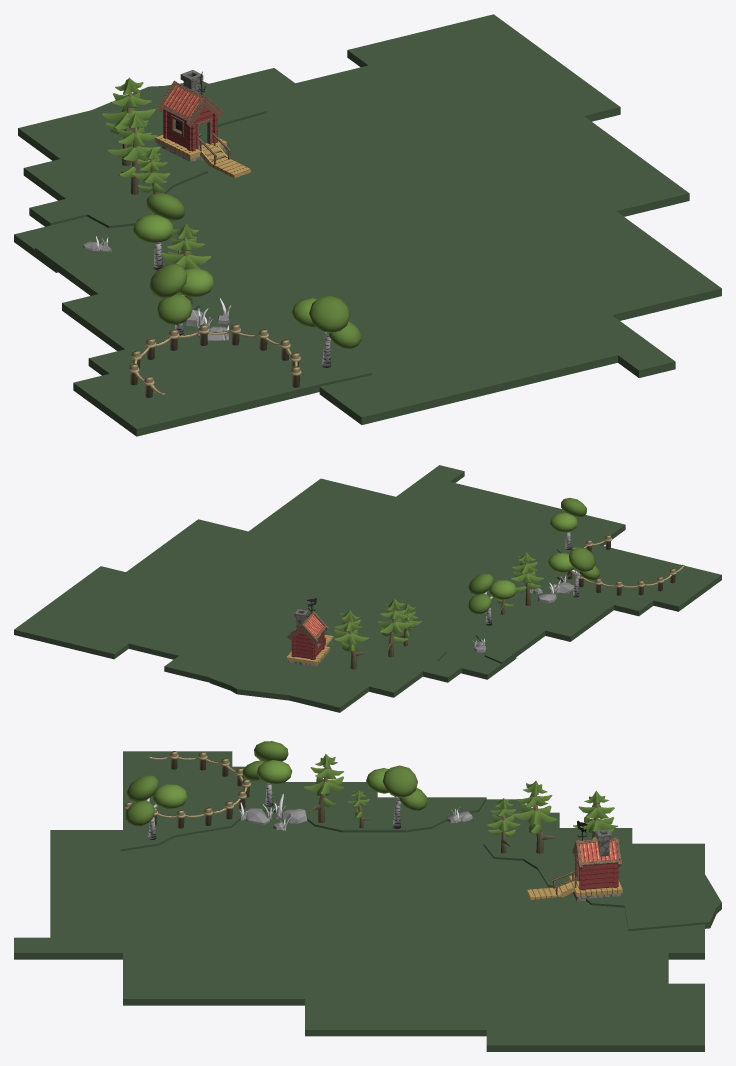
3 renders of one model, top to bottom at view 1: azimuth 30°, elevation 25°; view 2: azimuth 150°, elevation 25°; view 3: azimuth 270°, elevation 25°, orthographic. The views are drawn at different scales.
Parts seen in each view (by area): view 1: Cube.055, Maa1, Maa2, Cottage.001, Koivu2, Koivu1, Aitaus, Koivu3, Mänty4, Mänty5, Mänty1, Mänty3 (+1 smaller); view 2: Cube.055, Maa1, Maa2, Cottage.001, Koivu3, Koivu2, Aitaus, Koivu1, Mänty4, Mänty5, Mänty1, TaustaAssetteja1; view 3: Cube.055, Maa1, Maa2, Cottage.001, Koivu1, Koivu3, Aitaus, Koivu2, Mänty4, Mänty1, TaustaAssetteja1, Mänty5 (+1 smaller).
Part boxes in pixels (box(x1,y1,x2,y2)): Cube.055: box(14, 14, 721, 424); Maa1: box(35, 243, 371, 436); Maa2: box(18, 81, 266, 228); Cottage.001: box(155, 70, 250, 178); Koivu2: box(150, 263, 214, 334); Koivu1: box(291, 295, 361, 367); Aitaus: box(128, 324, 301, 397); Koivu3: box(133, 192, 184, 270); Mänty4: box(108, 113, 160, 194); Mänty5: box(102, 77, 155, 165); Mänty1: box(161, 223, 210, 304); Mänty3: box(132, 148, 169, 193); Cube.055: box(14, 465, 625, 682); Maa1: box(476, 535, 721, 666); Maa2: box(210, 641, 462, 712); Cottage.001: box(286, 598, 333, 666); Koivu3: box(468, 573, 516, 625); Koivu2: box(548, 547, 599, 597); Aitaus: box(567, 535, 684, 595); Koivu1: box(550, 498, 586, 549); Mänty4: box(378, 599, 413, 657); Mänty5: box(334, 610, 368, 669); Mänty1: box(510, 552, 543, 605); TaustaAssetteja1: box(530, 574, 573, 603); Cube.055: box(14, 799, 704, 1051); Maa1: box(120, 751, 486, 851); Maa2: box(483, 812, 721, 931); Cottage.001: box(526, 820, 622, 901); Koivu1: box(126, 775, 187, 839); Koivu3: box(366, 765, 427, 828); Aitaus: box(124, 751, 250, 828); Koivu2: box(242, 741, 292, 806); Mänty4: box(513, 781, 557, 853); Mänty1: box(304, 754, 345, 822); TaustaAssetteja1: box(239, 794, 307, 830); Mänty5: box(573, 790, 617, 839).
Bounding box in the file's own units: 38.93 × 4.96 × 38.
